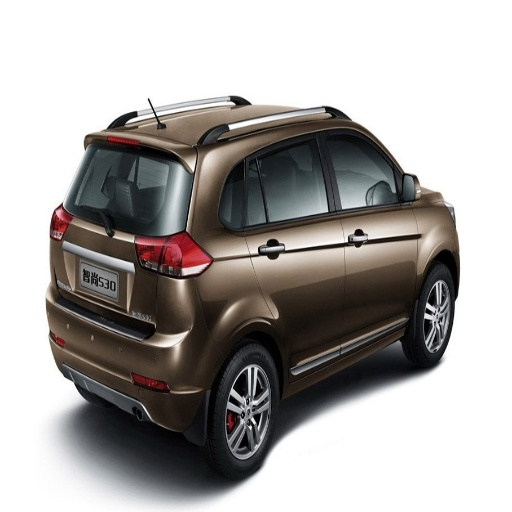back_bumper: (47, 273, 224, 429)
back_right_door: (245, 125, 347, 380)
tailgate: (59, 266, 126, 311)
trunk: (59, 216, 164, 321)
